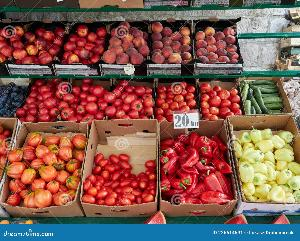bell_pepper: (160, 118, 236, 212), (230, 118, 300, 206)
garlic: (282, 77, 300, 114)
peach: (0, 26, 62, 64), (194, 19, 238, 69), (61, 24, 109, 66), (150, 23, 194, 67), (109, 24, 150, 66)
tomato: (2, 122, 88, 214), (81, 122, 157, 210), (20, 77, 154, 126), (200, 78, 248, 122), (158, 83, 200, 121)
zucchini: (240, 77, 284, 114)
